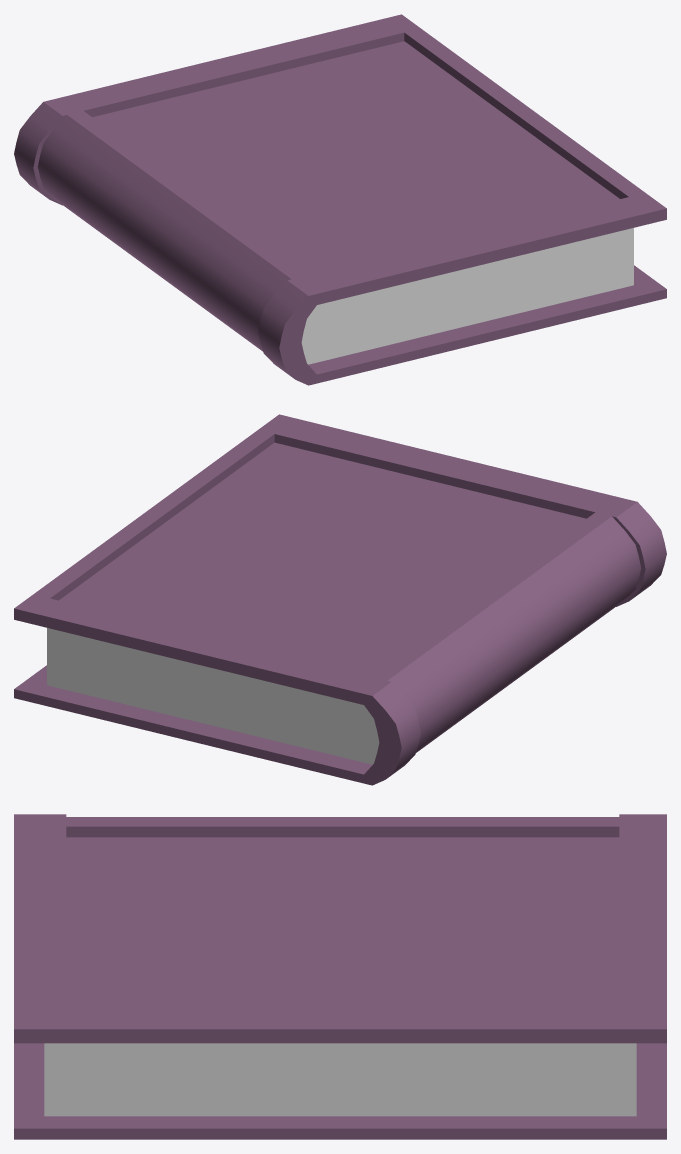
File: Book_4.fbx
The picture shows the model from 3 angles, top to bottom: view 1: azimuth 30°, elevation 25°; view 2: azimuth 150°, elevation 25°; view 3: azimuth 270°, elevation 25°; orthographic projection. The views are drawn at different scales.
Visible parts, largest first — view 1: Book_4; view 2: Book_4; view 3: Book_4.
Part boxes in pixels (box(x1,y1,x2,y2)): Book_4: box(14, 14, 666, 385); Book_4: box(14, 414, 666, 785); Book_4: box(14, 814, 666, 1139).
Bounding box in the file's own units: 80.41 × 17.76 × 95.27.
